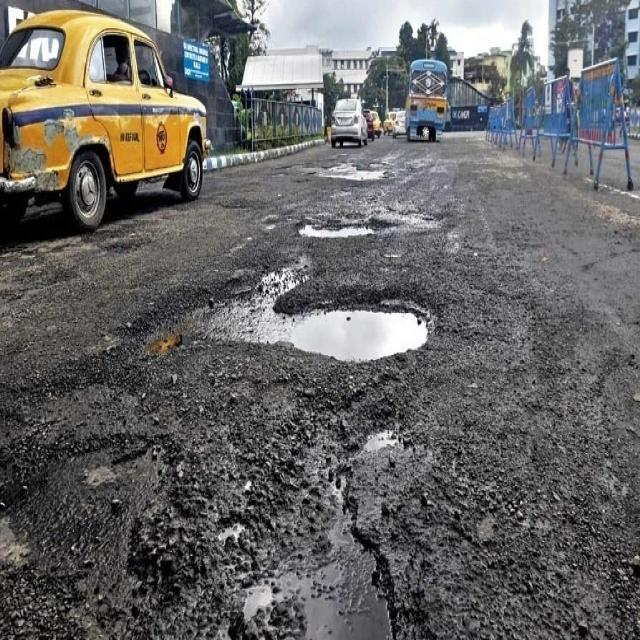road-pothole: (211, 419, 397, 639), (108, 251, 437, 365), (1, 430, 171, 639), (299, 209, 401, 242)
